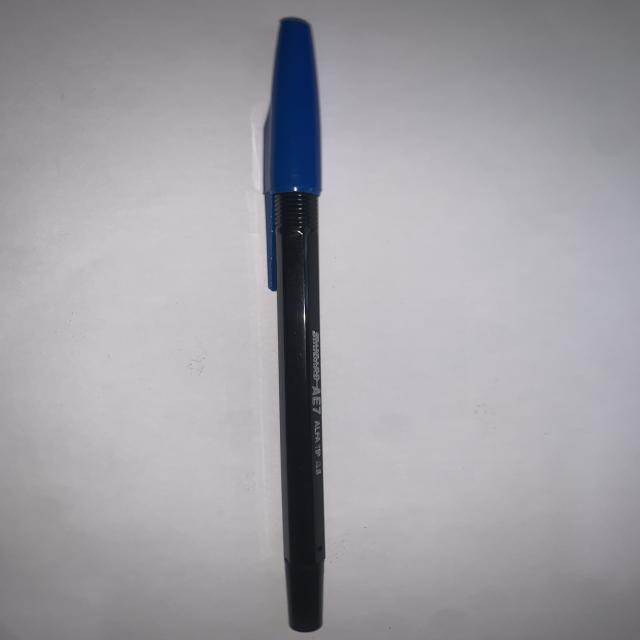Pulpen: (230, 10, 358, 640)
